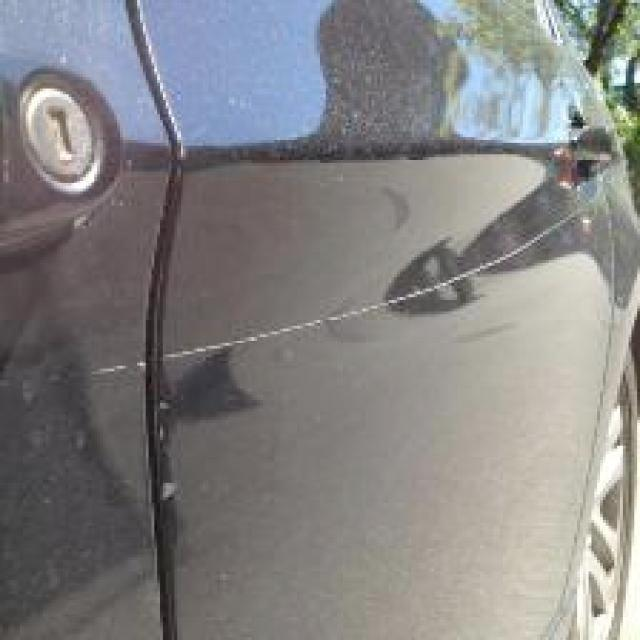minor: (170, 208, 583, 382), (95, 359, 143, 400)
